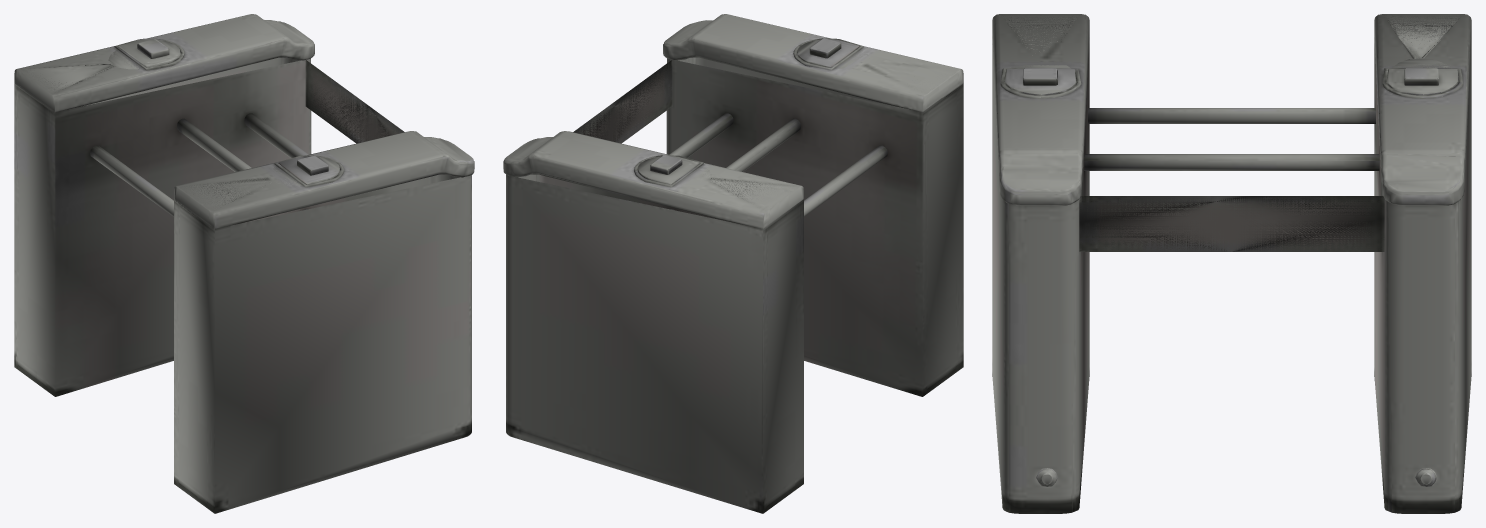
The model's file is subway-turnstile.glb.
The picture shows the model from 3 angles, left to right: view 1: azimuth 30°, elevation 25°; view 2: azimuth 150°, elevation 25°; view 3: azimuth 270°, elevation 25°; orthographic projection. The views are drawn at different scales.
Visible parts, largest first — view 1: tripo_node_22d0d681-f870-42b9-a64a-4b14205603d2; view 2: tripo_node_22d0d681-f870-42b9-a64a-4b14205603d2; view 3: tripo_node_22d0d681-f870-42b9-a64a-4b14205603d2.
Boxes of the visible parts, box(x1,y1,x2,y2) form: tripo_node_22d0d681-f870-42b9-a64a-4b14205603d2: box(14, 14, 474, 513); tripo_node_22d0d681-f870-42b9-a64a-4b14205603d2: box(503, 14, 963, 513); tripo_node_22d0d681-f870-42b9-a64a-4b14205603d2: box(992, 14, 1471, 513).
Bounding box in the file's own units: 1.1 × 1.2 × 1.42.
1 material, 1 textured.
